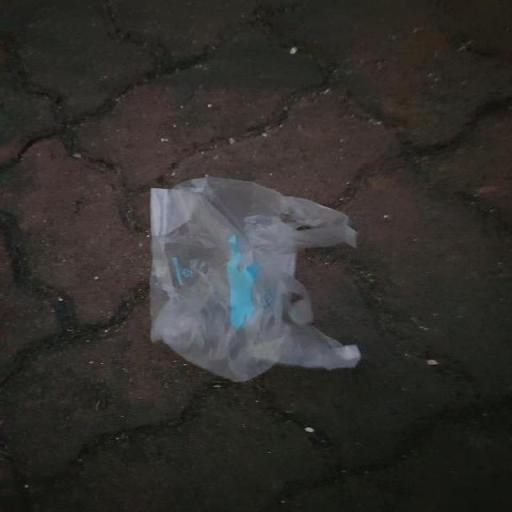plastic-bag: (141, 170, 368, 380)
